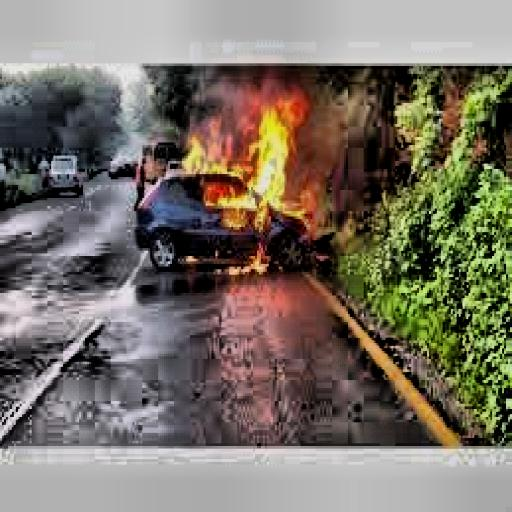fire: (178, 87, 320, 243)
